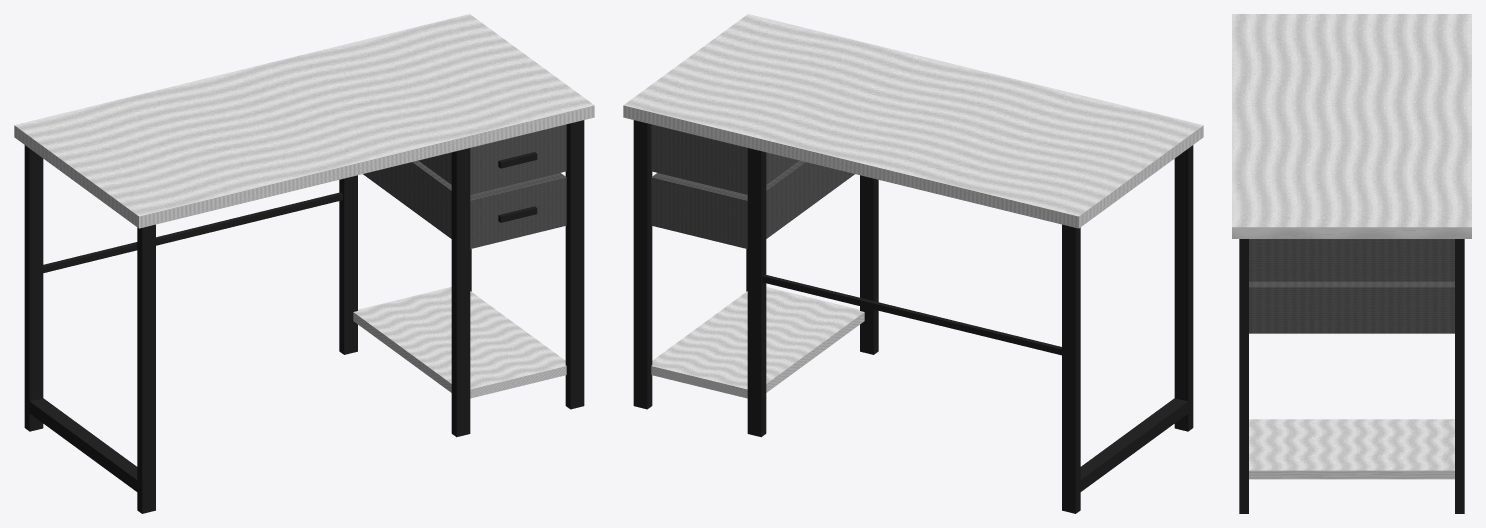
3 views of the same model, side by side, from view 1: azimuth 30°, elevation 25°; view 2: azimuth 150°, elevation 25°; view 3: azimuth 270°, elevation 25° (orthographic). The views are drawn at different scales.
Visible parts, largest first — view 1: 1 desktop, 13 lower_shelf, 10 drawer_bottom, 5 frame_leg_mid_front, 7 frame_leg_right_front, 2 frame_leg_left_front, 3 frame_leg_left_back, 9 drawer_top, 6 frame_leg_mid_back, 4 frame_left_bottom_bar, 14 back_support_bar; view 2: 1 desktop, 13 lower_shelf, 10 drawer_bottom, 6 frame_leg_mid_back, 8 frame_leg_right_back, 3 frame_leg_left_back, 2 frame_leg_left_front, 9 drawer_top, 5 frame_leg_mid_front, 4 frame_left_bottom_bar, 14 back_support_bar; view 3: 1 desktop, 13 lower_shelf, 10 drawer_bottom, 9 drawer_top, 7 frame_leg_right_front, 8 frame_leg_right_back.
Part boxes in pixels (<box>): 1 desktop: <box>14,14,594,228</box>; 13 lower_shelf: <box>353,287,566,398</box>; 10 drawer_bottom: <box>363,160,566,248</box>; 5 frame_leg_mid_front: <box>451,148,470,437</box>; 7 frame_leg_right_front: <box>565,120,584,409</box>; 2 frame_leg_left_front: <box>137,224,155,513</box>; 3 frame_leg_left_back: <box>24,145,43,431</box>; 9 drawer_top: <box>418,124,566,194</box>; 6 frame_leg_mid_back: <box>339,175,357,354</box>; 4 frame_left_bottom_bar: <box>29,398,137,491</box>; 14 back_support_bar: <box>43,192,342,272</box>; 1 desktop: <box>623,14,1203,228</box>; 13 lower_shelf: <box>651,287,864,398</box>; 10 drawer_bottom: <box>651,160,854,248</box>; 6 frame_leg_mid_back: <box>747,148,766,437</box>; 8 frame_leg_right_back: <box>633,120,652,409</box>; 3 frame_leg_left_back: <box>1062,224,1080,513</box>; 2 frame_leg_left_front: <box>1174,145,1193,431</box>; 9 drawer_top: <box>651,124,799,194</box>; 5 frame_leg_mid_front: <box>860,175,878,354</box>; 4 frame_left_bottom_bar: <box>1080,398,1188,491</box>; 14 back_support_bar: <box>762,274,1061,355</box>; 1 desktop: <box>1232,14,1471,238</box>; 13 lower_shelf: <box>1249,419,1454,479</box>; 10 drawer_bottom: <box>1249,281,1454,333</box>; 9 drawer_top: <box>1249,239,1454,281</box>; 7 frame_leg_right_front: <box>1239,239,1248,513</box>; 8 frame_leg_right_back: <box>1455,239,1464,513</box>.
Bounding box in the file's own units: 1.58 × 1 × 0.75.
3 materials, 2 textured.
